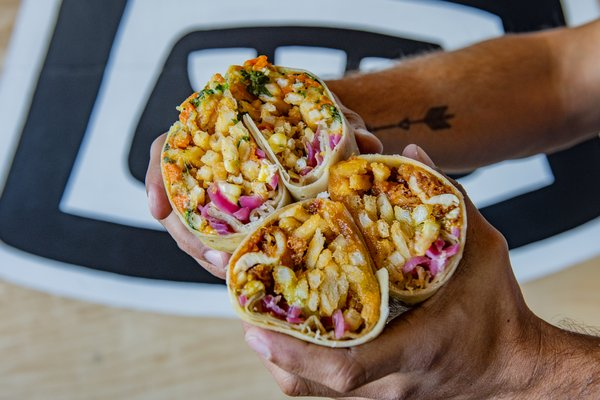sandwich: (328, 153, 468, 305)
